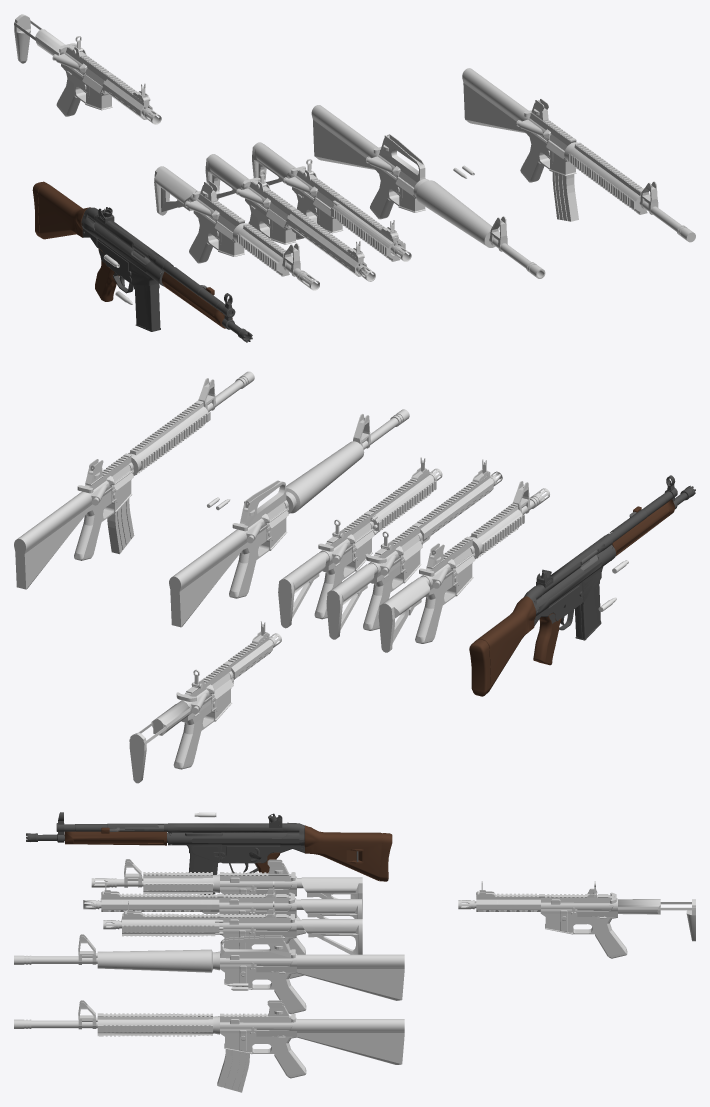
3 renders of one model, top to bottom at view 1: azimuth 30°, elevation 25°; view 2: azimuth 150°, elevation 25°; view 3: azimuth 270°, elevation 25°, orthographic. The views are drawn at different scales.
Parts seen in each view (by area): view 1: m16a2, C3A3, m16a4, m4a4, HoneyRaccon Gen3.001, AM15 Gen3, mk18, Stock_m4a4, Mag_C3A3, Stock_mk18.002, mag_Stanag_empty, Stock_mk18.001 (+1 smaller); view 2: C3A3, m16a2, m16a4, m4a4, AM15 Gen3, HoneyRaccon Gen3.001, mk18, Stock_m4a4, Stock_mk18.001, Stock_mk18.002, Mag_C3A3, mag_Stanag_empty (+1 smaller); view 3: m16a2, m16a4, C3A3, HoneyRaccon Gen3.001, mk18, AM15 Gen3, m4a4, Stock_mk18.002, Stock_m4a4, Stock_mk18.001, mag_Stanag_empty, Stock_mk18.003 (+1 smaller).
Boxes of the visible parts, bbox=[...] form: m16a2: bbox=[311, 105, 545, 278]; C3A3: bbox=[32, 181, 252, 342]; m16a4: bbox=[462, 68, 695, 242]; m4a4: bbox=[185, 192, 319, 290]; HoneyRaccon Gen3.001: bbox=[35, 29, 161, 124]; AM15 Gen3: bbox=[236, 180, 375, 281]; mk18: bbox=[283, 168, 411, 261]; Stock_m4a4: bbox=[154, 166, 197, 215]; Mag_C3A3: bbox=[134, 283, 160, 331]; Stock_mk18.002: bbox=[252, 142, 295, 185]; mag_Stanag_empty: bbox=[552, 172, 578, 221]; Stock_mk18.001: bbox=[205, 154, 248, 200]; C3A3: bbox=[469, 475, 695, 696]; m16a2: bbox=[169, 409, 409, 627]; m16a4: bbox=[14, 371, 254, 589]; m4a4: bbox=[415, 481, 549, 643]; AM15 Gen3: bbox=[363, 469, 502, 630]; HoneyRaccon Gen3.001: bbox=[151, 631, 281, 769]; mk18: bbox=[314, 467, 442, 619]; Stock_m4a4: bbox=[378, 577, 429, 652]; Stock_mk18.001: bbox=[326, 564, 374, 639]; Stock_mk18.002: bbox=[278, 552, 326, 628]; Mag_C3A3: bbox=[575, 581, 601, 640]; mag_Stanag_empty: bbox=[107, 498, 134, 554]; m16a2: bbox=[14, 934, 404, 1014]; m16a4: bbox=[14, 1000, 404, 1078]; C3A3: bbox=[26, 812, 392, 881]; HoneyRaccon Gen3.001: bbox=[458, 888, 660, 958]; mk18: bbox=[103, 909, 304, 978]; AM15 Gen3: bbox=[83, 888, 305, 954]; m4a4: bbox=[91, 859, 306, 935]; Stock_mk18.002: bbox=[301, 919, 362, 954]; Stock_m4a4: bbox=[301, 877, 362, 918]; Stock_mk18.001: bbox=[301, 899, 361, 918]; mag_Stanag_empty: bbox=[217, 1049, 249, 1092]; Stock_mk18.003: bbox=[658, 899, 695, 941].
Size of the model in its own units: 1.03 by 0.2169 by 1.45.
